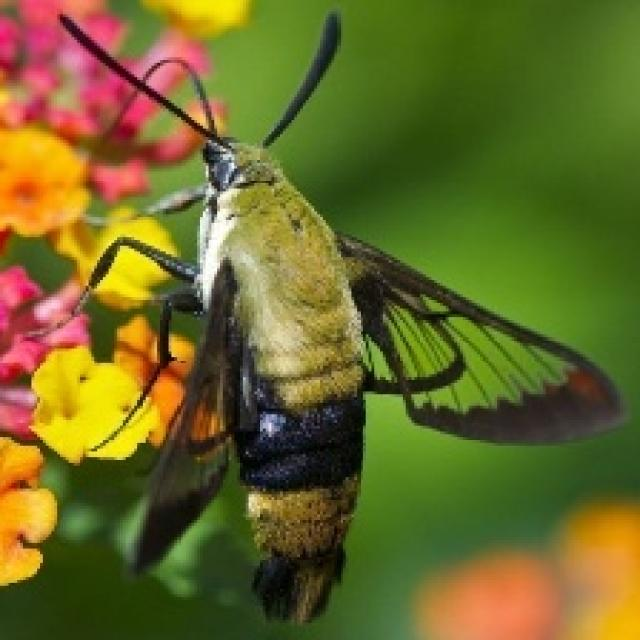butterfly: (31, 6, 626, 626)
